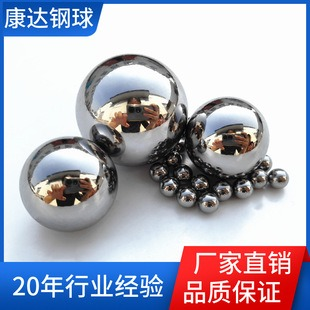ironball: (75, 53, 188, 166), (18, 135, 118, 232), (185, 96, 269, 179), (198, 192, 219, 213), (267, 168, 288, 188), (212, 181, 232, 201), (176, 187, 196, 207), (159, 176, 178, 197), (234, 178, 253, 198), (149, 162, 168, 181), (250, 168, 267, 188), (191, 174, 209, 191), (173, 164, 192, 180), (258, 154, 272, 171)
